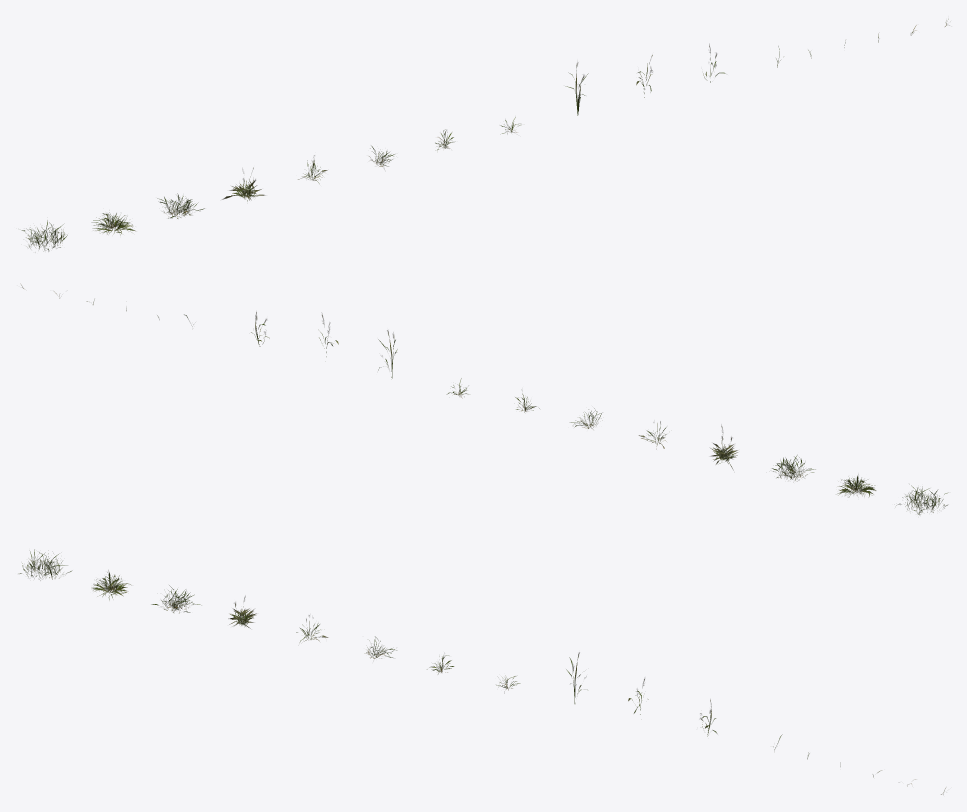
File: grass_medium_01_lod2.glb
3 renders of one model, top to bottom at view 1: azimuth 30°, elevation 25°; view 2: azimuth 150°, elevation 25°; view 3: azimuth 330°, elevation 25°, orthographic.
Visible parts, largest first — view 1: no part large enough to name; view 2: grass_medium_01_large_a_LOD0; view 3: no part large enough to name.
Boxes of the visible parts, x1,y1,x2,y2 form: grass_medium_01_large_a_LOD0: (896,485,948,514).
Size of the model in its own units: 5.6 by 0.3389 by 0.3178.
1 material, 1 textured.
